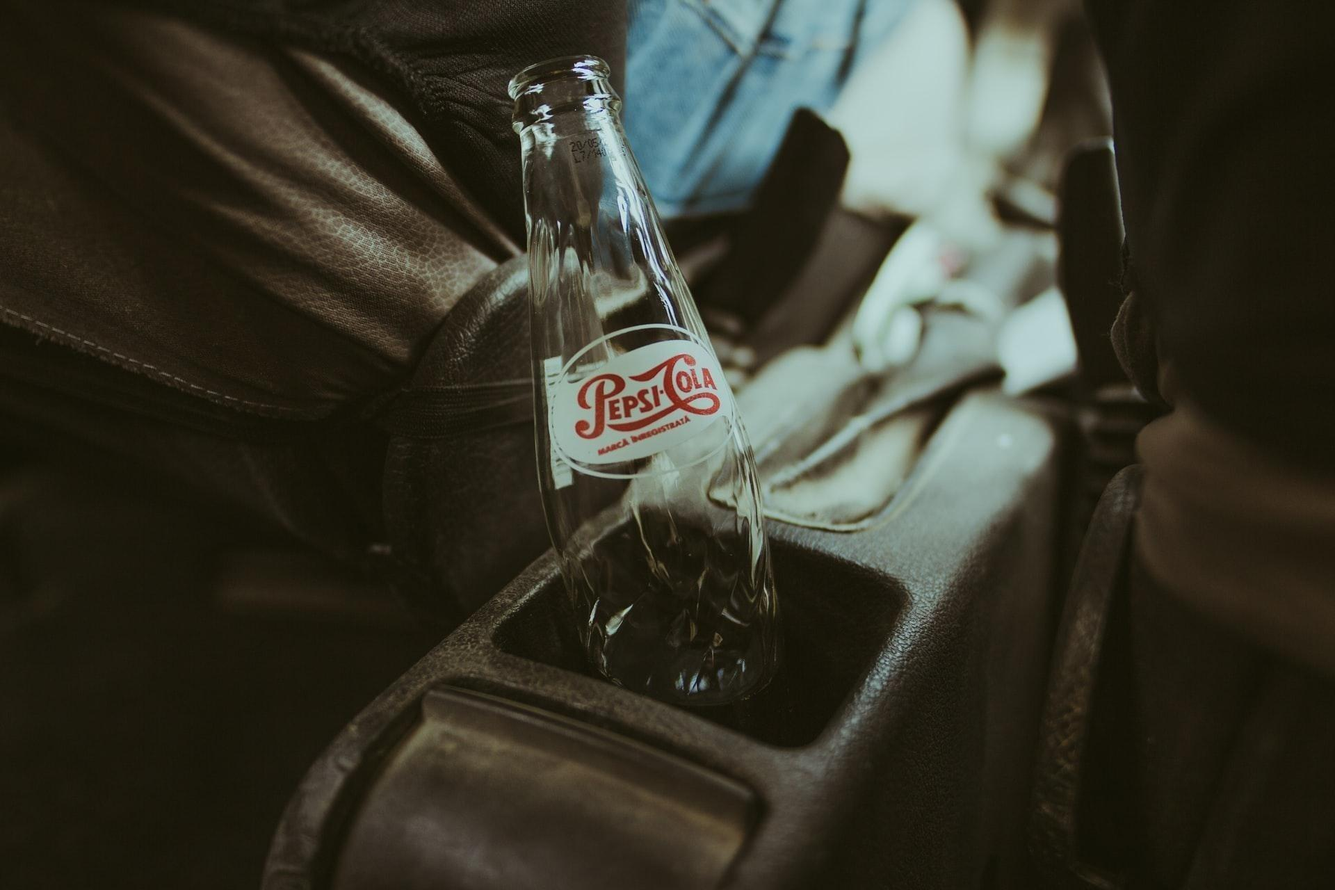bottle-glass: (505, 49, 780, 711)
